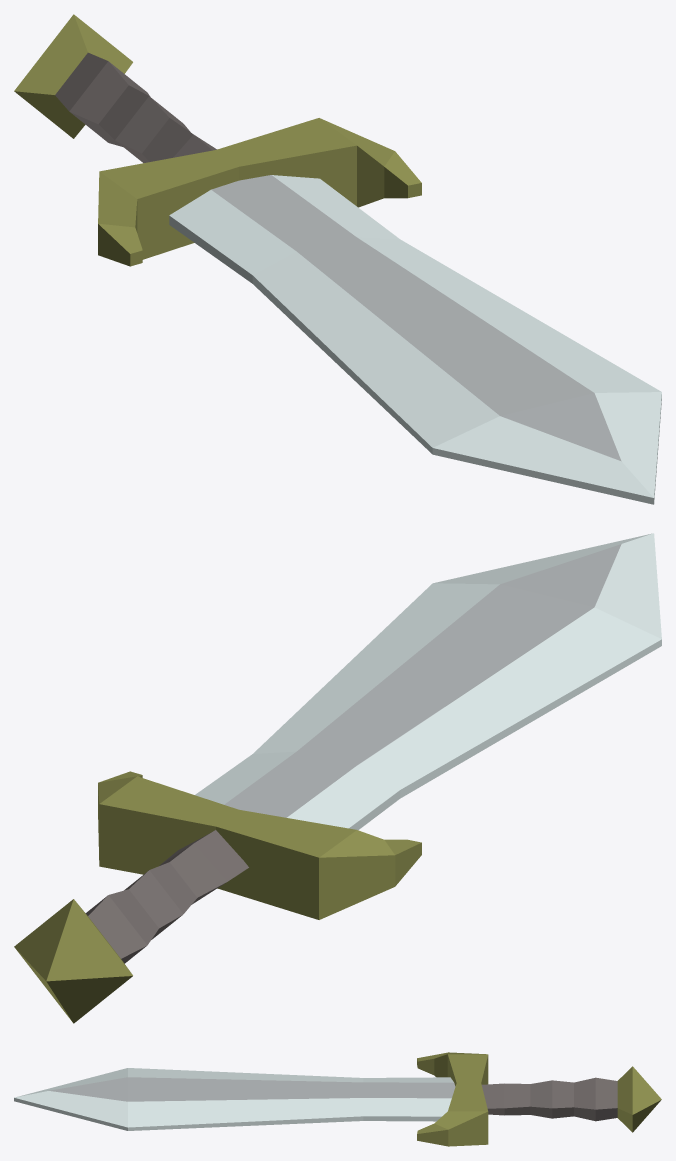
File: sword.fbx
3 renders of one model, top to bottom at view 1: azimuth 30°, elevation 25°; view 2: azimuth 150°, elevation 25°; view 3: azimuth 270°, elevation 25°, orthographic. The views are drawn at different scales.
Parts seen in each view (by area): view 1: Sword; view 2: Sword; view 3: Sword.
Boxes of the visible parts, box(x1,y1,x2,y2) form: Sword: box(14, 14, 661, 504); Sword: box(14, 533, 661, 1023); Sword: box(14, 1052, 661, 1146).
Size of the model in its own units: 74 by 29.75 by 262.
